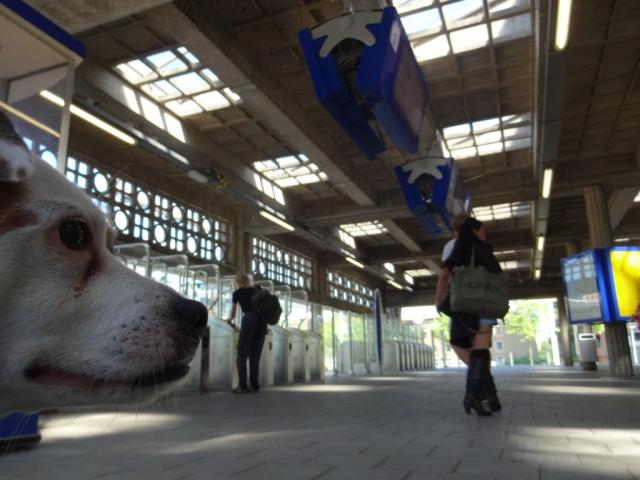Dog: (0, 104, 209, 421)
